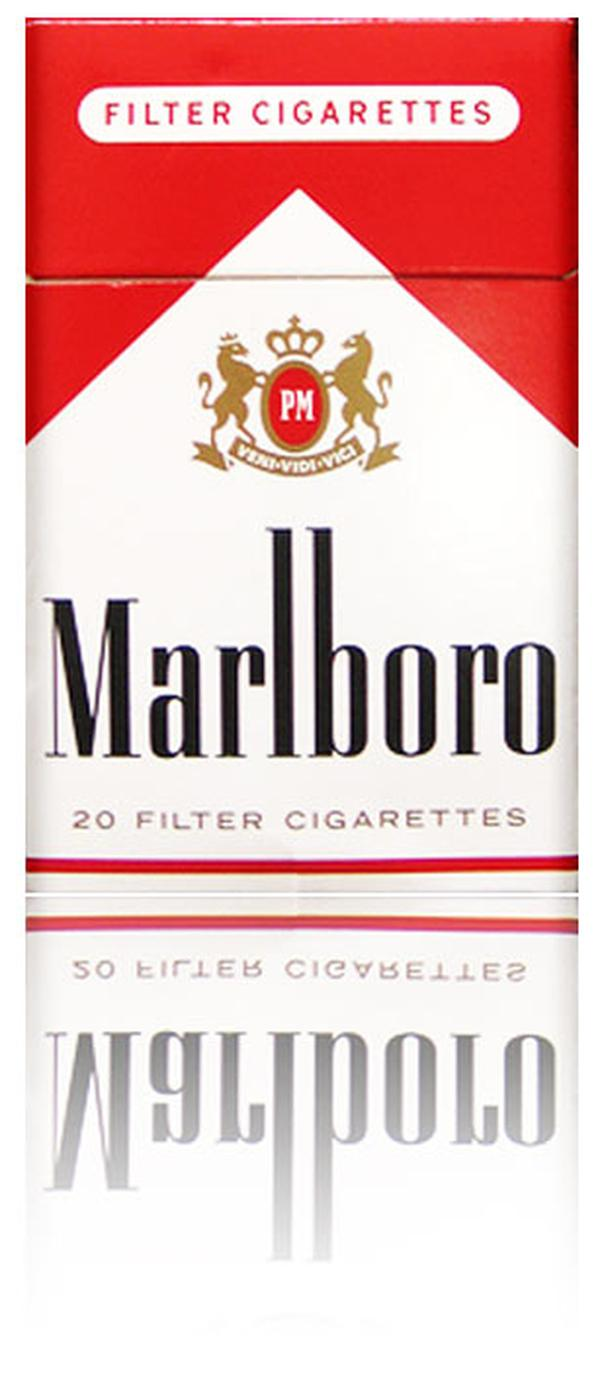marlboro_red: (21, 30, 574, 880)
